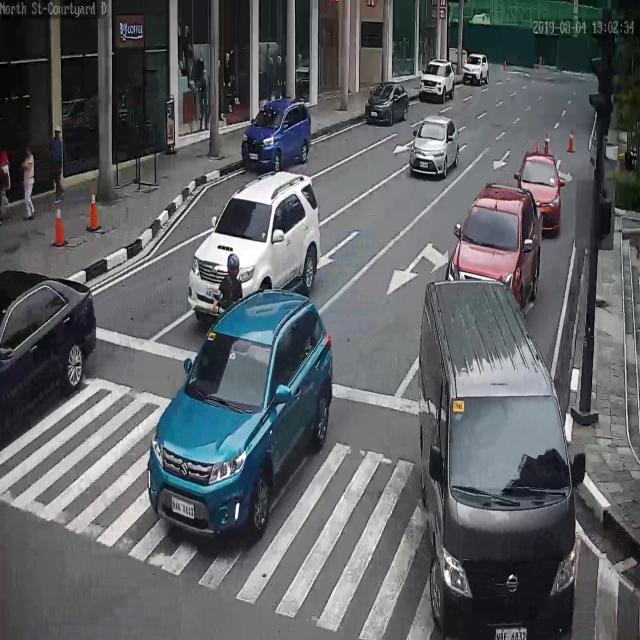bus: (417, 278, 577, 640)
car: (147, 288, 333, 537), (187, 171, 321, 321), (0, 269, 96, 444), (446, 183, 542, 312), (241, 97, 311, 173), (519, 151, 561, 238), (409, 115, 459, 179), (366, 80, 409, 126), (419, 58, 456, 103), (460, 54, 490, 87)
jeepney: (212, 250, 245, 315)
